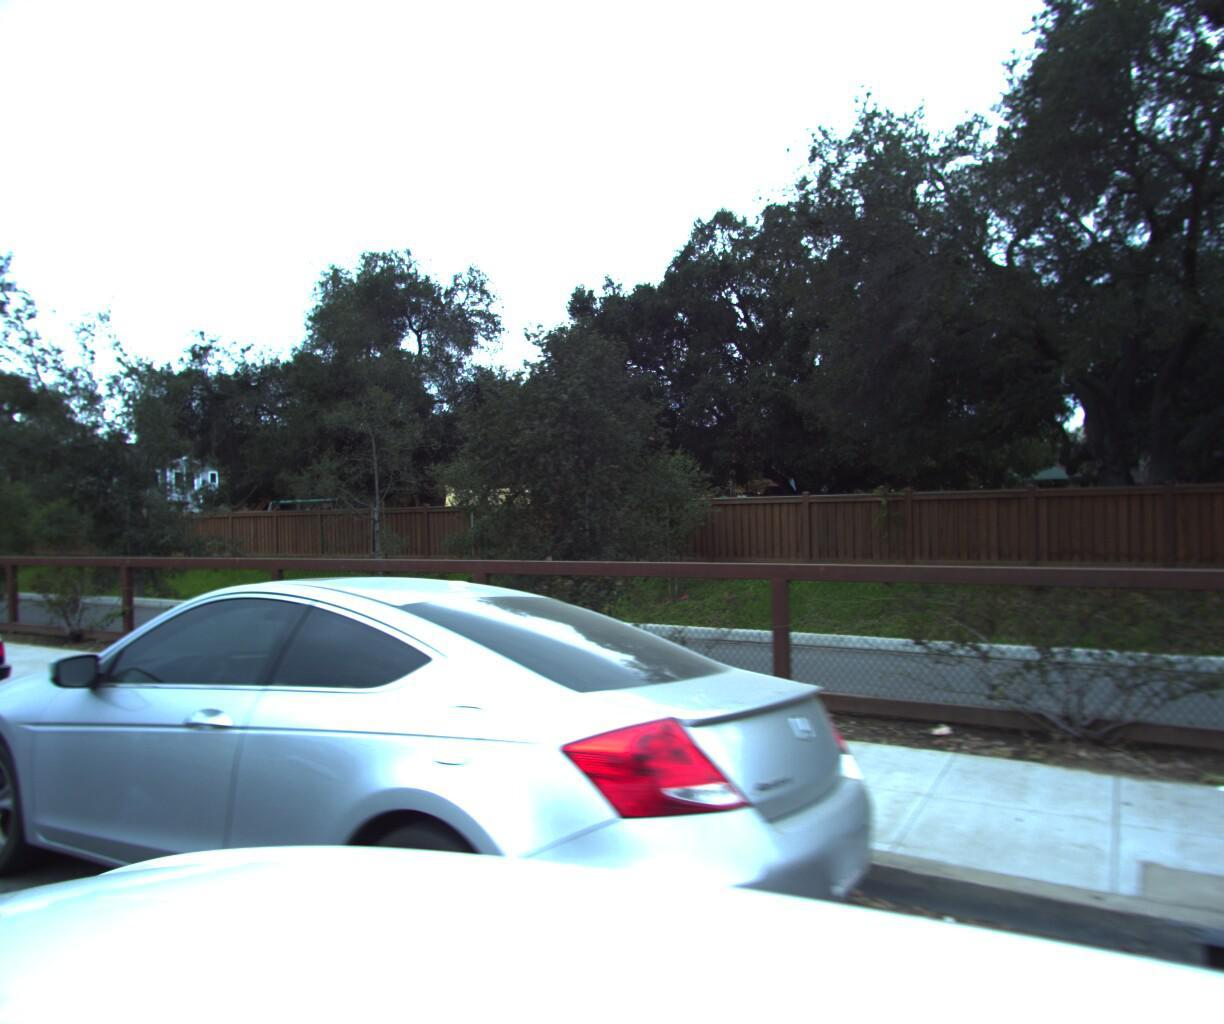car: (0, 560, 912, 1024), (0, 559, 25, 789)
